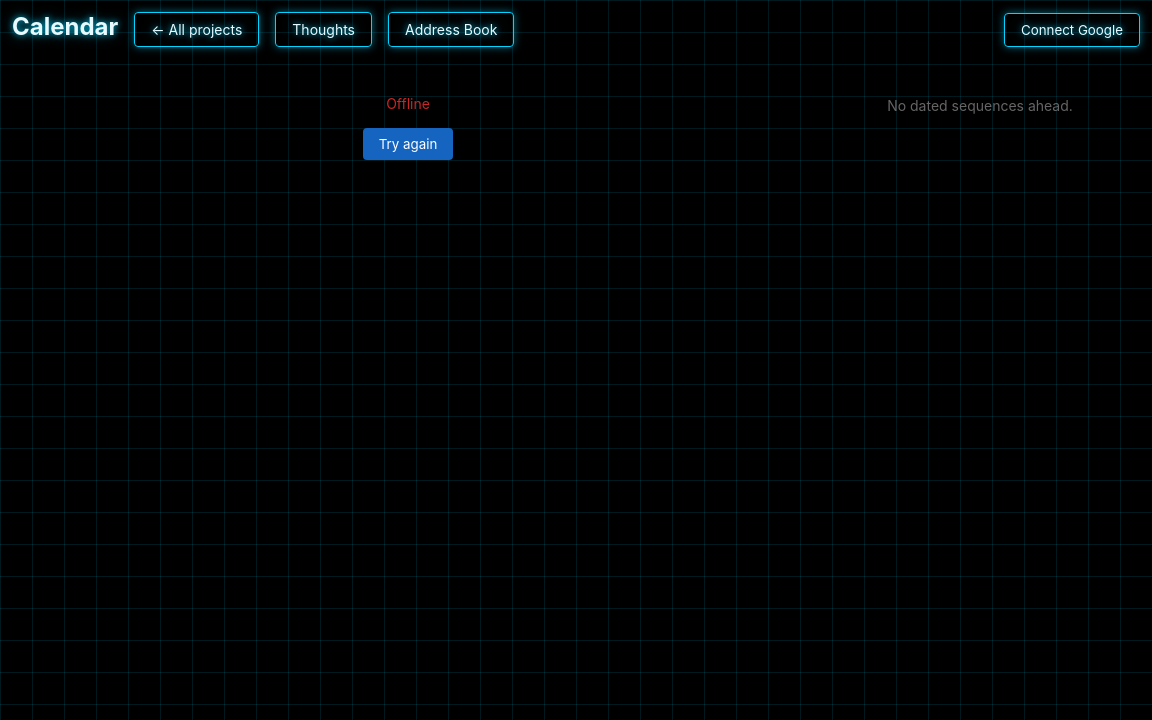
Test case: CalendarPage › retrying asks again
What coordinates should you click on to do the following:
click the button "Try again"
I would click on:
 (408, 144)
Its box is [363,128,453,160].
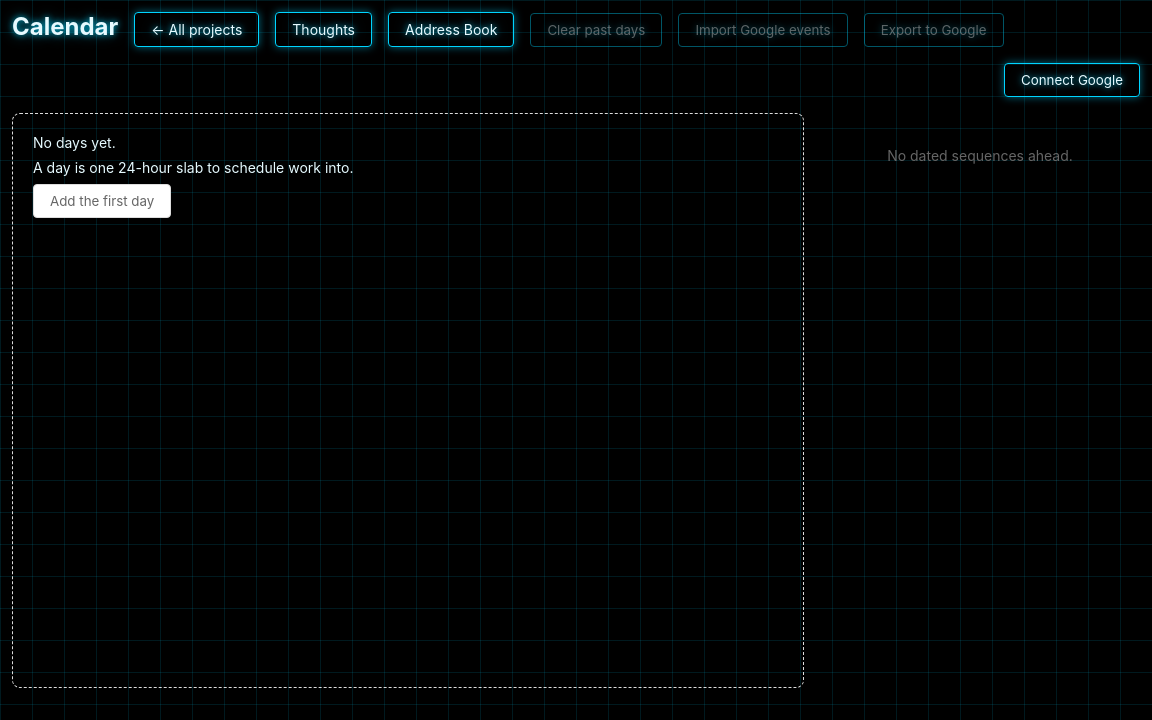
Now the text "Offline" is gone
